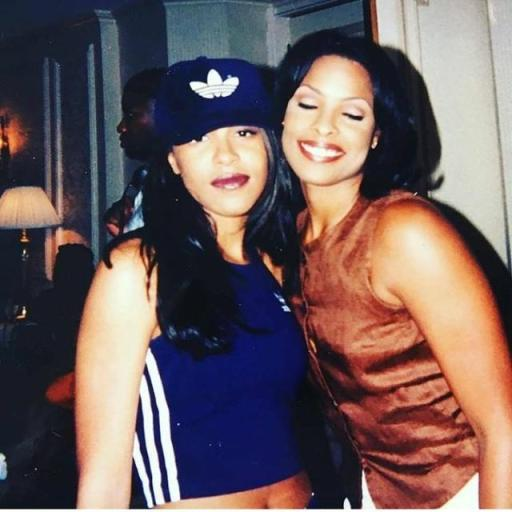Adidas: (187, 67, 241, 101)
